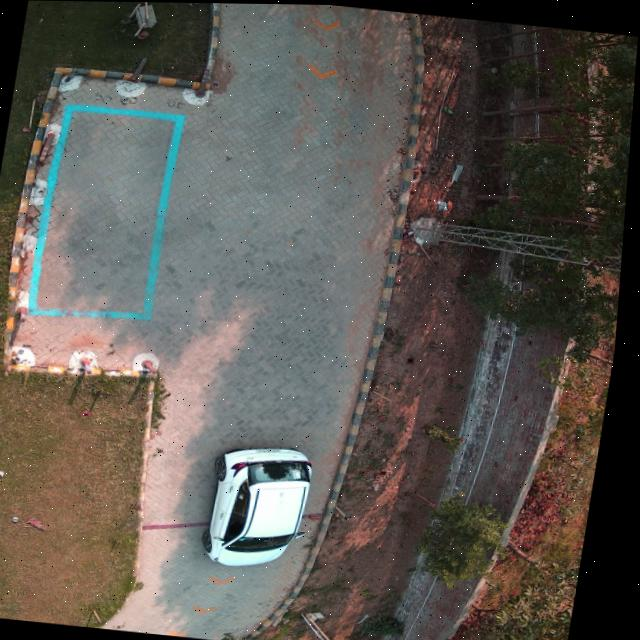car: (209, 446, 319, 565)
